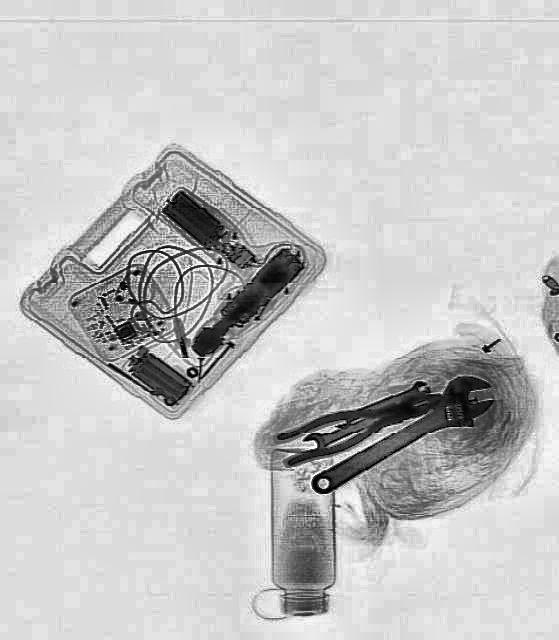Pliers: (272, 380, 444, 468)
Wrench: (302, 362, 502, 512), (333, 376, 432, 432), (301, 410, 379, 454)
